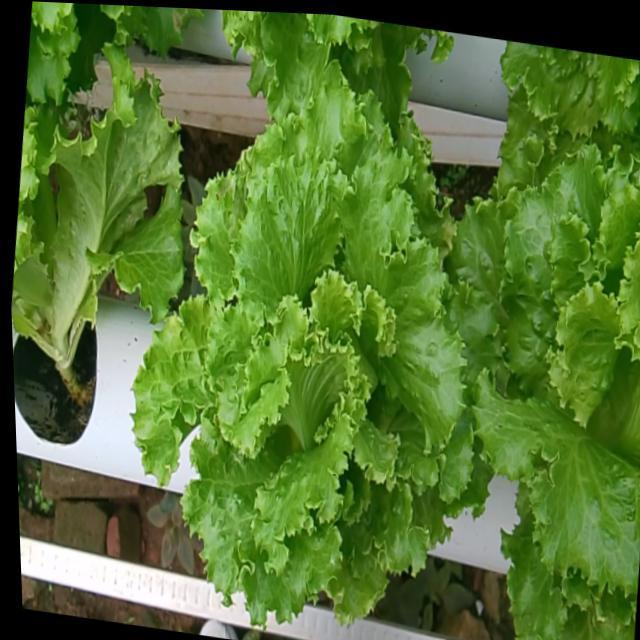Mature: (141, 96, 479, 633), (457, 155, 640, 611)
